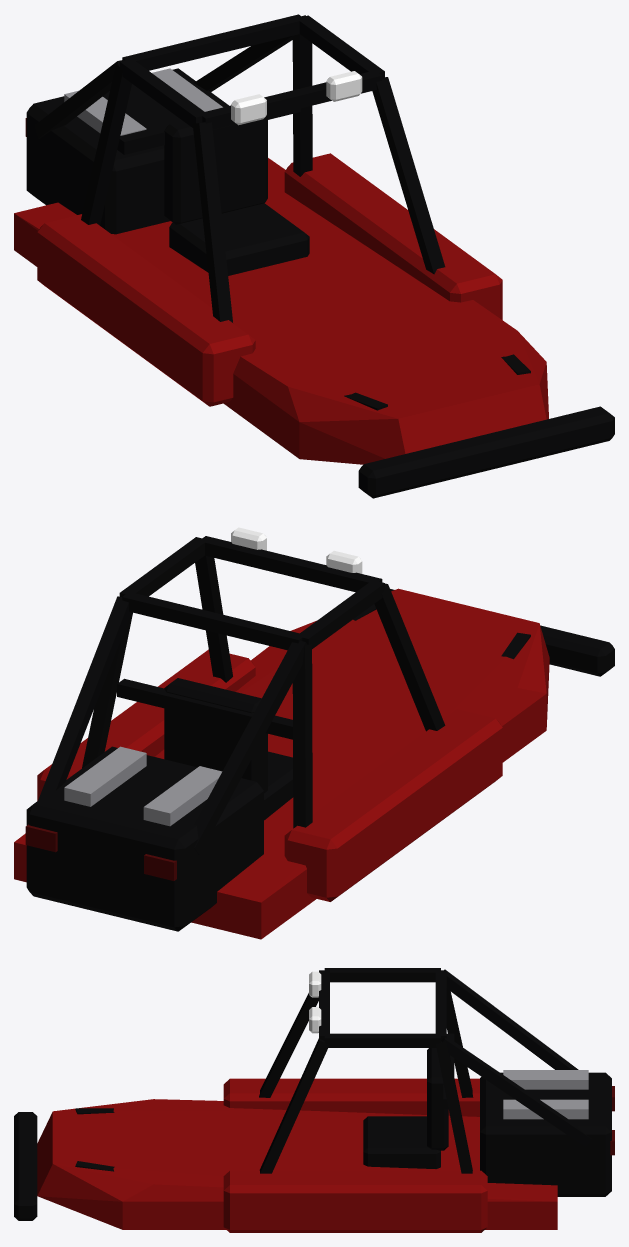
The model's file is Buggy.obj.
3 renders of one model, top to bottom at view 1: azimuth 30°, elevation 25°; view 2: azimuth 150°, elevation 25°; view 3: azimuth 270°, elevation 25°, orthographic. The views are drawn at different scales.
Parts seen in each view (by area): view 1: Body, Trim, Chrome, Headlights; view 2: Trim, Body, Chrome, Taillights, Headlights; view 3: Body, Trim, Chrome, Headlights.
Boxes of the visible parts, x1,y1,x2,y2 form: Body: (14, 153, 548, 464); Trim: (26, 14, 614, 498); Chrome: (64, 68, 222, 135); Headlights: (231, 71, 362, 125); Trim: (26, 536, 614, 931); Body: (14, 588, 549, 939); Chrome: (64, 746, 222, 826); Taillights: (25, 824, 176, 880); Headlights: (231, 527, 362, 573); Body: (37, 1078, 557, 1232); Trim: (14, 968, 611, 1220); Chrome: (503, 1070, 588, 1119); Headlights: (309, 971, 321, 1033).
Bounding box in the file's own units: 1.7 × 1.35 × 3.87.
